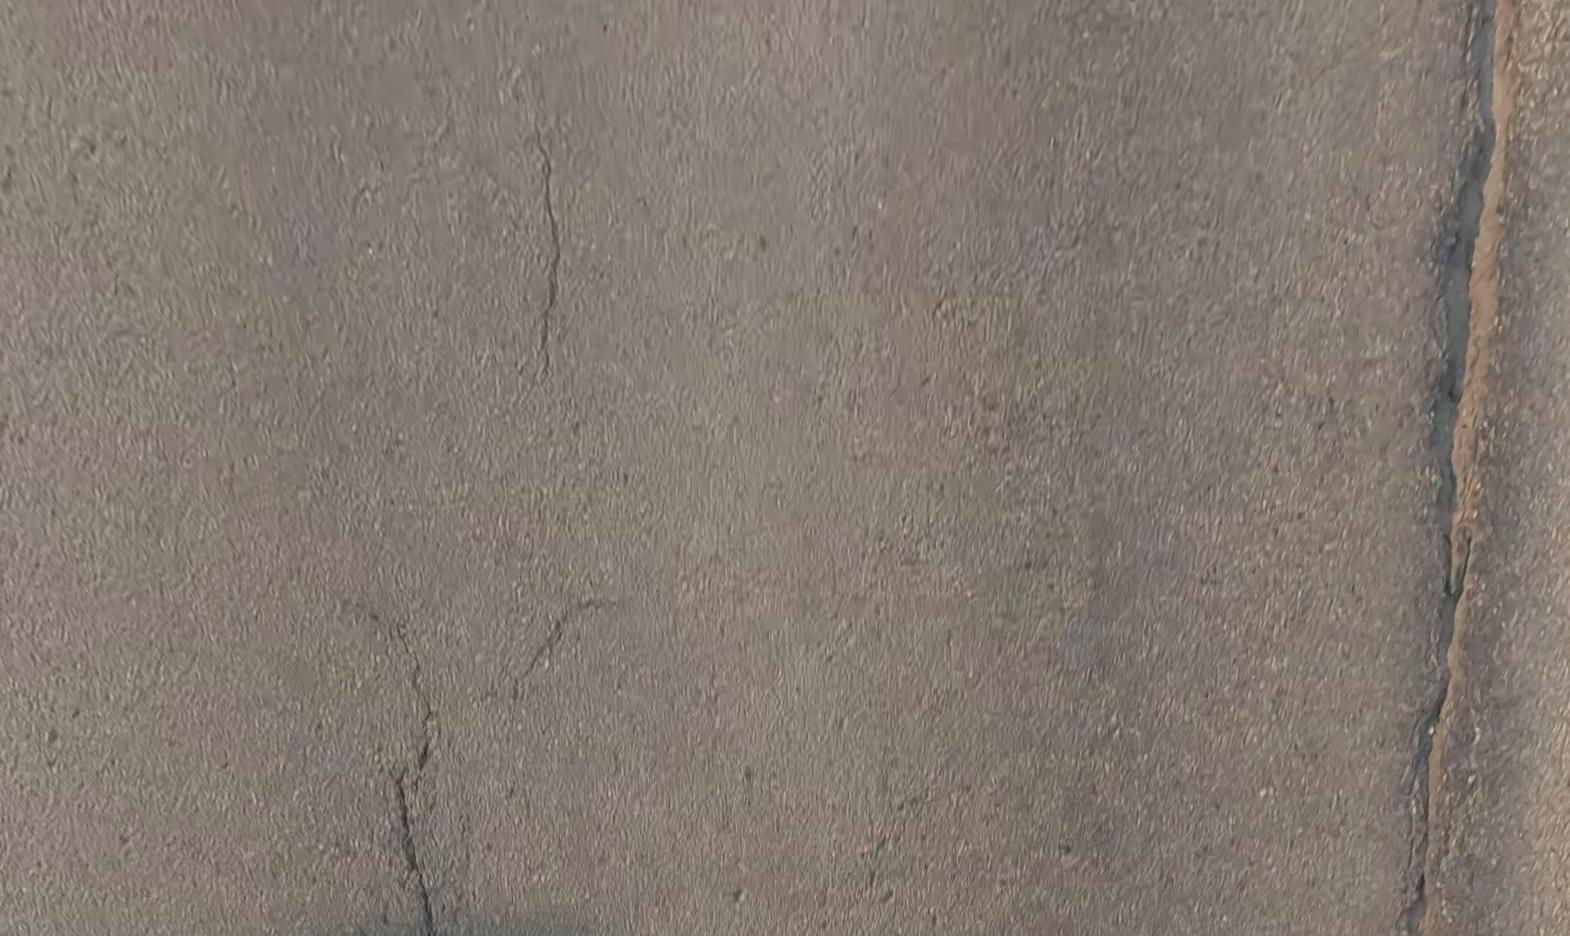pothole: (1428, 0, 1513, 544)
